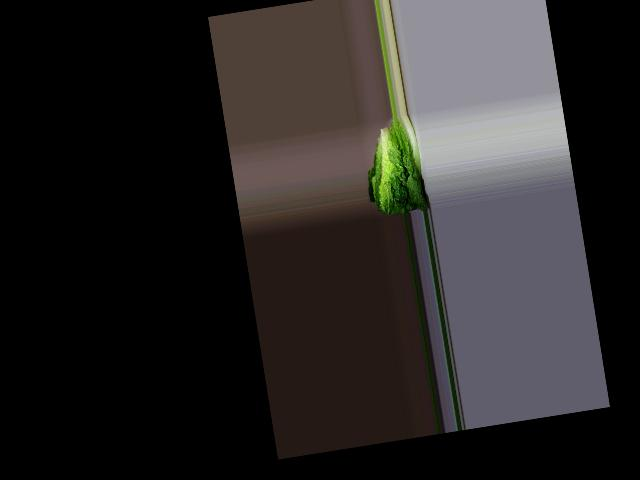lettuce: (365, 118, 430, 218)
